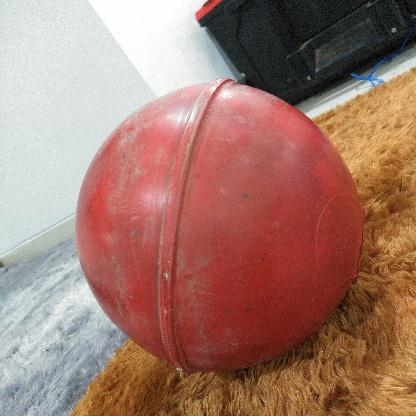red_buoy: (75, 76, 364, 376)
